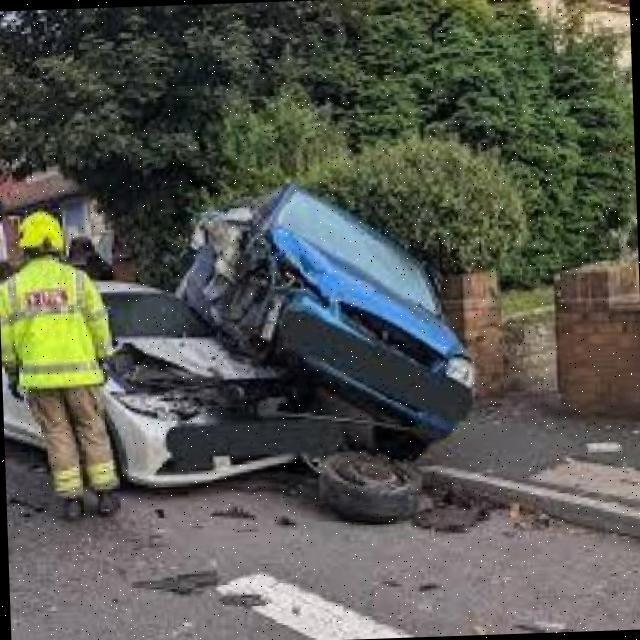accident: (92, 207, 443, 457)
